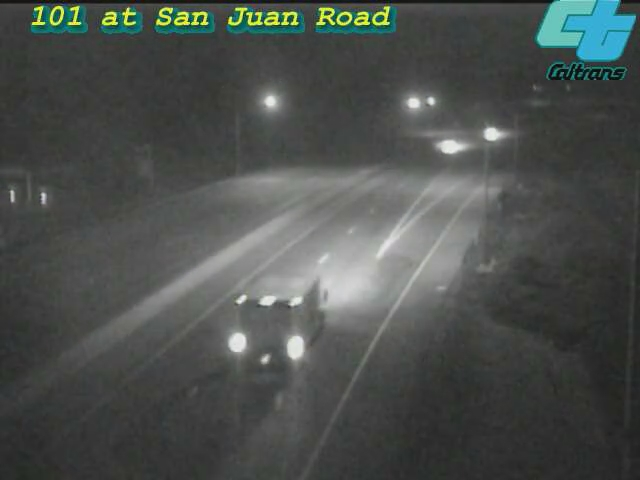vehicle: (207, 275, 317, 385), (466, 110, 516, 160), (425, 121, 475, 171)
